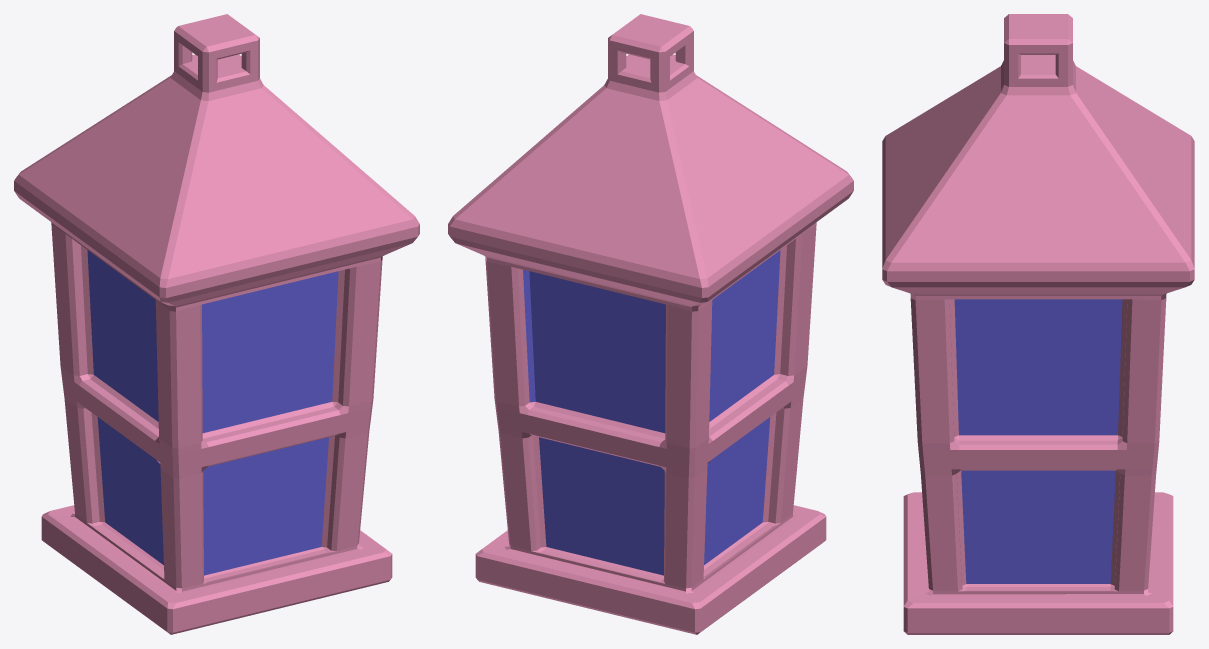
Rendered from Lantern.fbx.
3 views of the same model, side by side, from view 1: azimuth 30°, elevation 25°; view 2: azimuth 150°, elevation 25°; view 3: azimuth 270°, elevation 25° (orthographic). The views are drawn at different scales.
Visible parts, largest first — view 1: Cube; view 2: Cube; view 3: Cube.
Part boxes in pixels (x1=…): Cube: x1=14, y1=14, x2=419, y2=634; Cube: x1=448, y1=14, x2=853, y2=634; Cube: x1=882, y1=14, x2=1194, y2=634.
Size of the model in its own units: 20.2 by 39.46 by 20.2.
